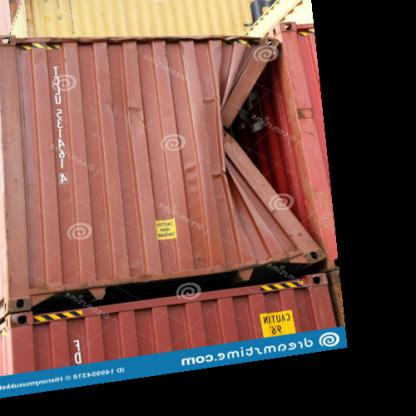Damage: (213, 40, 340, 272)
